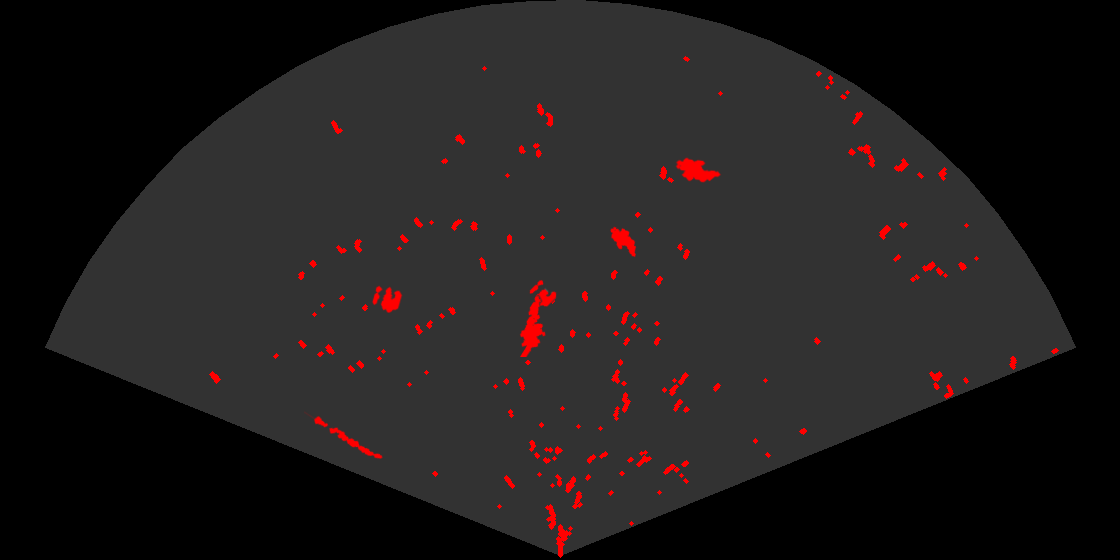AUV: (674, 156, 723, 184), (609, 225, 638, 259)
ball: (370, 284, 404, 315), (528, 278, 558, 308)
chain: (304, 410, 384, 461)
frogman: (518, 294, 547, 357)
